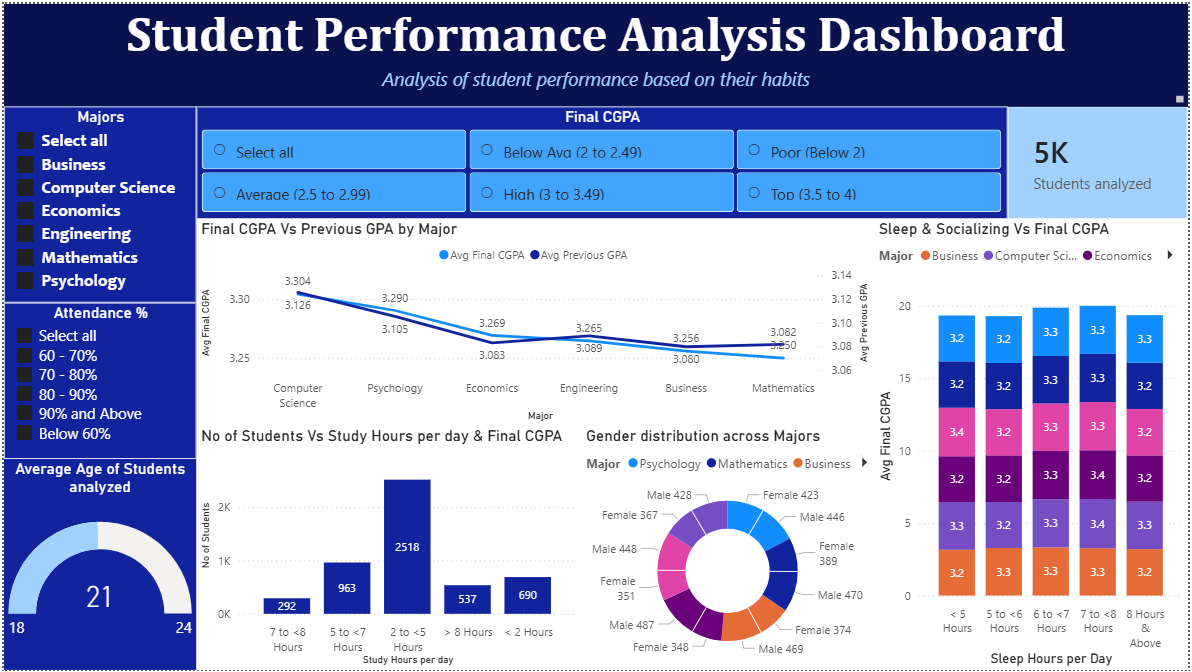

This screenshot's page, from the dashboard's own definition file:
{"tool":"powerbi","page":{"name":"Page 1","canvas":[1280,720],"ordinal":0},"visuals":[{"type":"donutChart","title":"Gender distribution across Majors","fields":{"Category":["student_habits stud_data.Major"],"Y":["Count(student_habits stud_data.Student_ID)"],"Series":["student_habits stud_data.Gender"]},"box":[624.3,456.8,316.2,263.5],"z":0},{"type":"cardVisual","fields":{"Data":["Count(student_habits stud_data.Student_ID)"]},"box":[1085.1,110.8,194.6,121.6],"z":1000},{"type":"textbox","title":"Student Performance Analysis Dashboard","box":[0,0,1280.3,111.2],"z":2000},{"type":"lineChart","title":"Final CGPA Vs Previous GPA by Major","fields":{"Category":["student_habits stud_data.Major"],"Y":["Avg(student_habits stud_data.Final_CGPA)"],"Y2":["Avg(student_habits stud_data.Previous_GPA)"]},"box":[208.1,232.4,732.4,224.3],"z":3000},{"type":"advancedSlicerVisual","fields":{"Values":["student_habits stud_data.Final CGPA"]},"box":[208.1,110.8,877,121.6],"z":4000},{"type":"gauge","title":"Average Age of Students analyzed","fields":{"Y":["Avg(student_habits stud_data.Age)"],"MinValue":["Min(student_habits stud_data.Age)1"],"MaxValue":["Max(student_habits stud_data.Age)2"]},"box":[0,491.9,208.1,228.4],"z":5000},{"type":"clusteredColumnChart","title":"No of Students Vs Study Hours per day & Final CGPA ","fields":{"Category":["student_habits stud_data.Study Hours per day","student_habits stud_data.Final CGPA"],"Y":["Count(student_habits stud_data.Student_ID)"]},"box":[208.1,456.8,416.2,263.5],"z":6000},{"type":"slicer","title":"Attendance %","fields":{"Values":["student_habits stud_data.Attendance_Pct (groups)"]},"box":[0,323,208.1,168.9],"z":7000},{"type":"slicer","title":"Majors","fields":{"Values":["student_habits stud_data.Major"]},"box":[0,110.8,208.1,212.2],"z":8000},{"type":"columnChart","title":"Sleep & Socializing Vs Final CGPA","fields":{"Category":["student_habits stud_data.Sleep Hours per Day","student_habits stud_data.Social_Hours_Week"],"Series":["student_habits stud_data.Major"],"Y":["Avg(student_habits stud_data.Final_CGPA)"]},"box":[940.5,232.4,339.2,487.8],"z":9000}]}

Visuals, with their boxes in screenshot pixels (x1, y1, x2, y2), scaled from the page's 1280x720 canvas onto the 1192x672 screenshot:
"Gender distribution across Majors" donutChart: bbox=[581, 426, 876, 671]
cardVisual - Count(student_habits stud_data.Student_ID): bbox=[1010, 103, 1191, 217]
"Student Performance Analysis Dashboard" textbox: bbox=[0, 0, 1191, 104]
"Final CGPA Vs Previous GPA by Major" lineChart: bbox=[194, 217, 876, 426]
advancedSlicerVisual - student_habits stud_data.Final CGPA: bbox=[194, 103, 1010, 217]
"Average Age of Students analyzed" gauge: bbox=[0, 459, 194, 671]
"No of Students Vs Study Hours per day & Final CGPA " clusteredColumnChart: bbox=[194, 426, 581, 671]
"Attendance %" slicer: bbox=[0, 301, 194, 459]
"Majors" slicer: bbox=[0, 103, 194, 301]
"Sleep & Socializing Vs Final CGPA" columnChart: bbox=[876, 217, 1191, 671]
